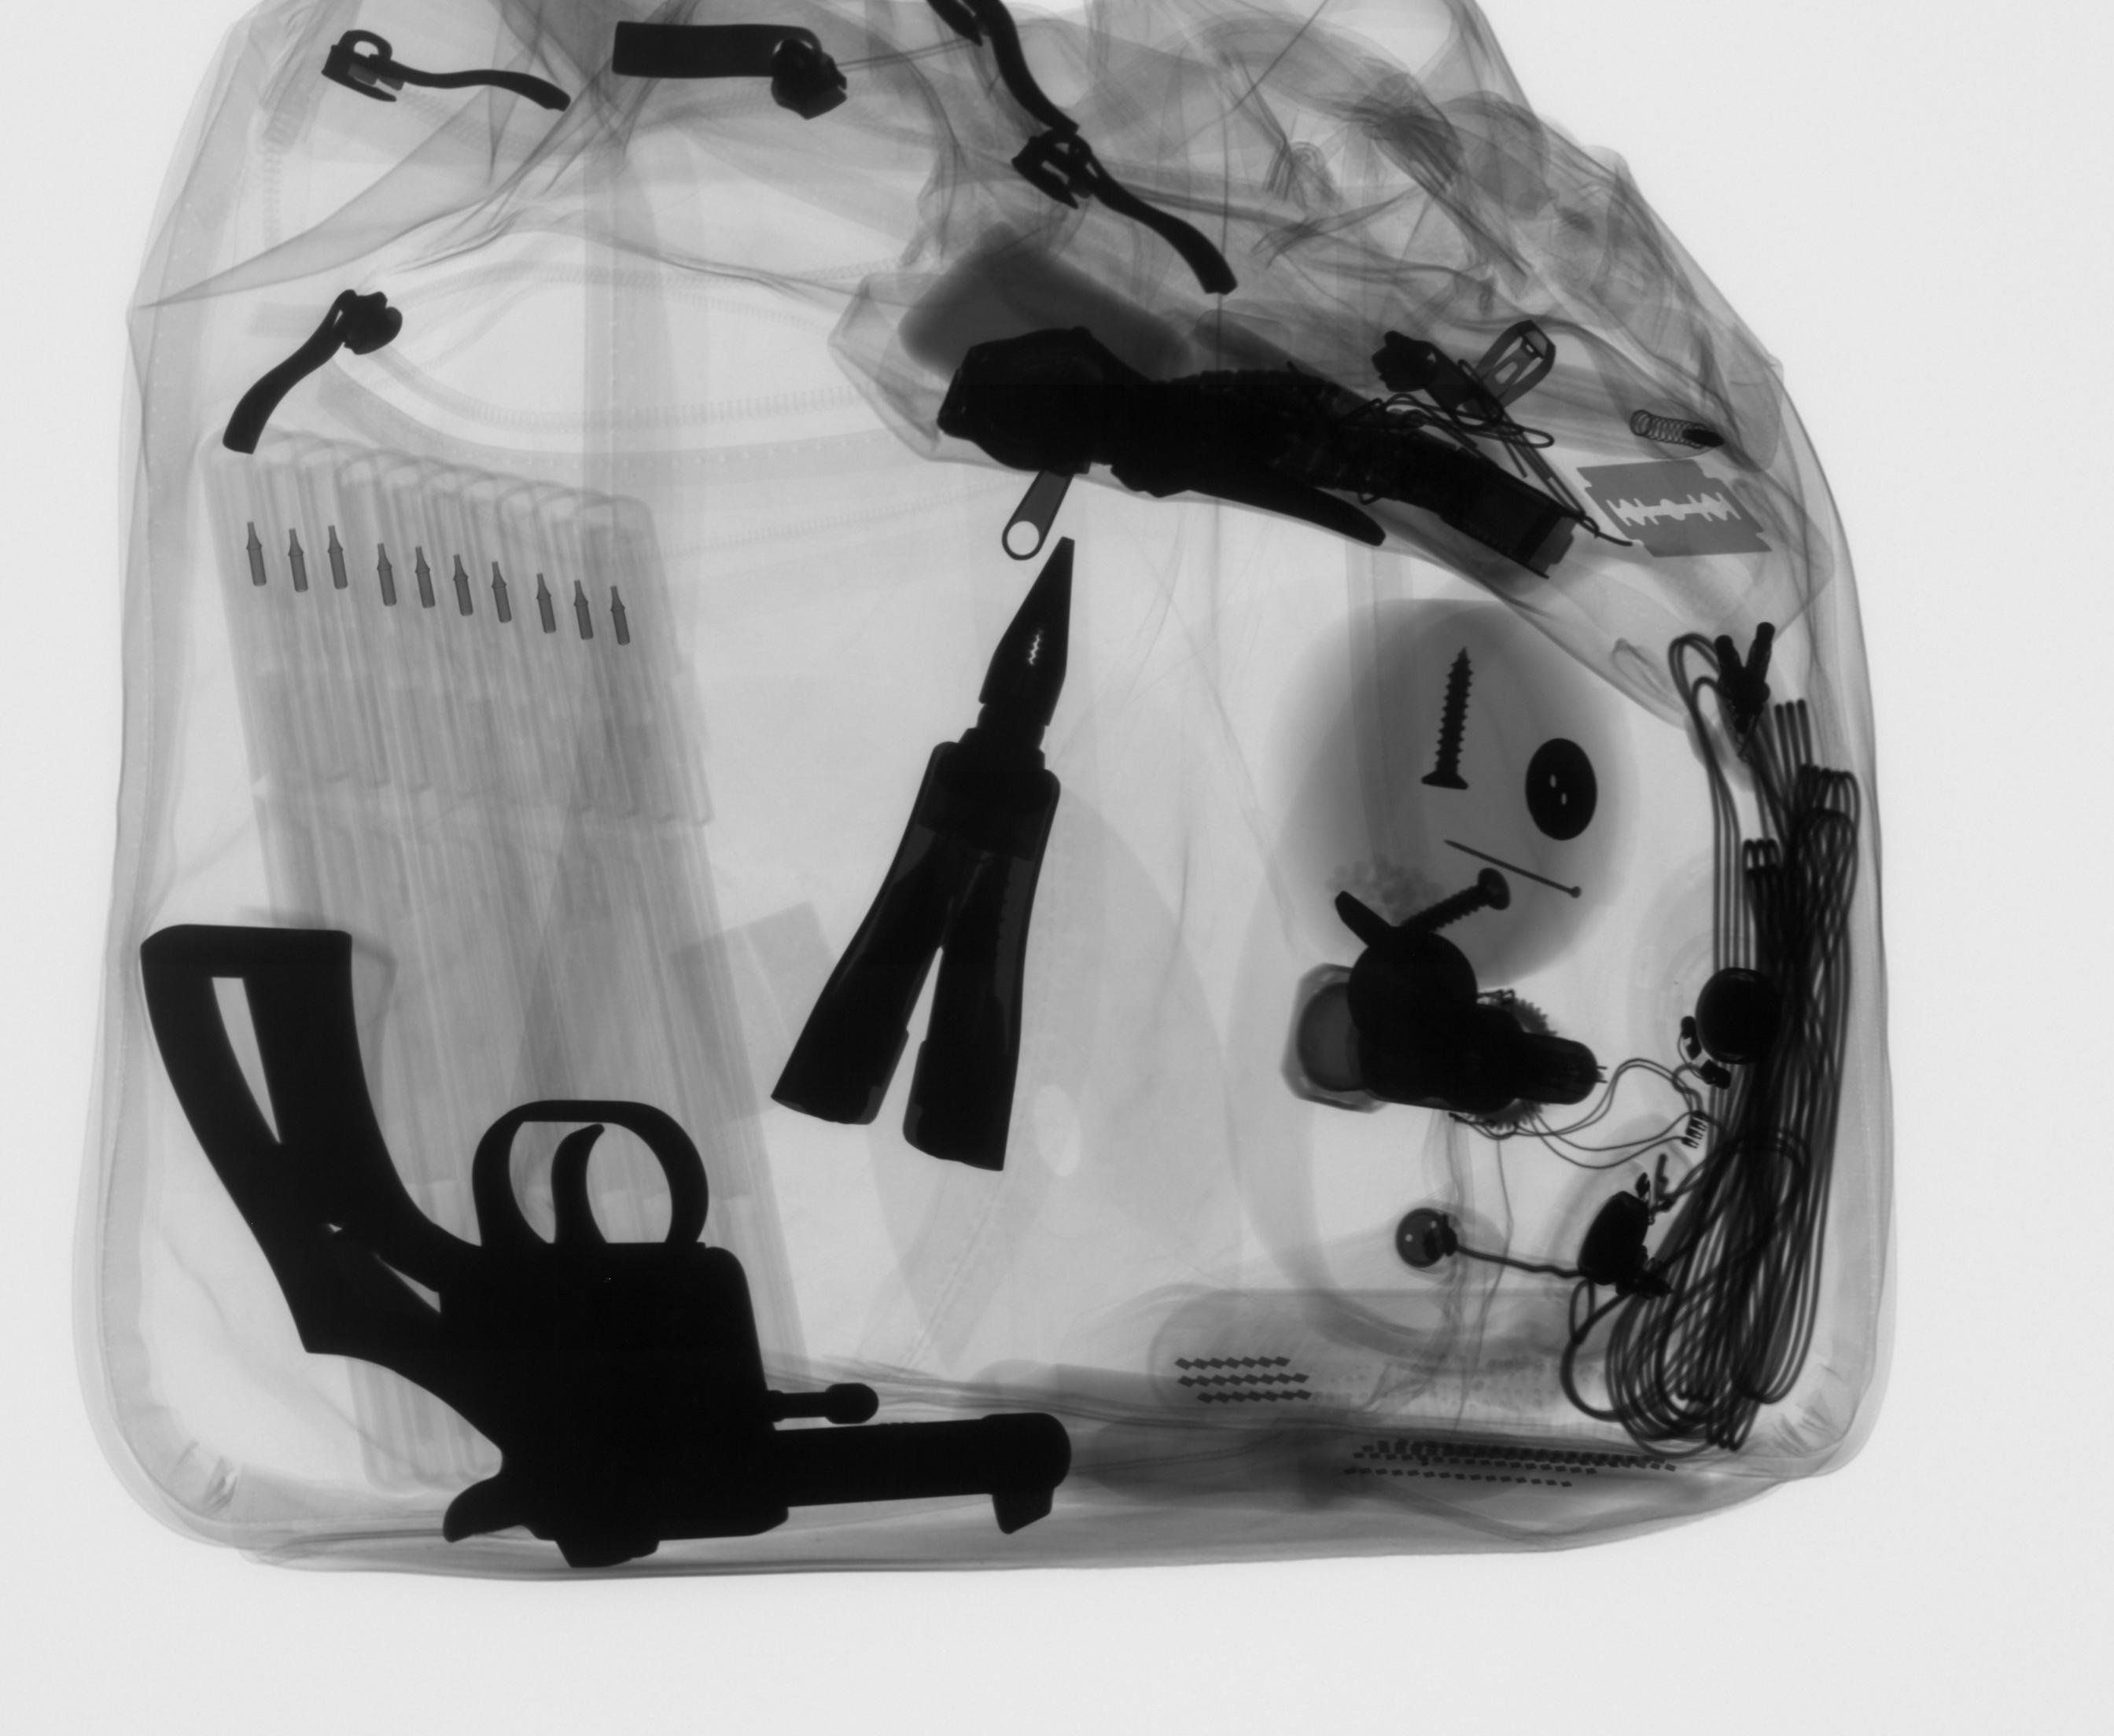Handgun: (126, 913, 1091, 1576)
RazorBlade: (1569, 454, 1787, 566)
